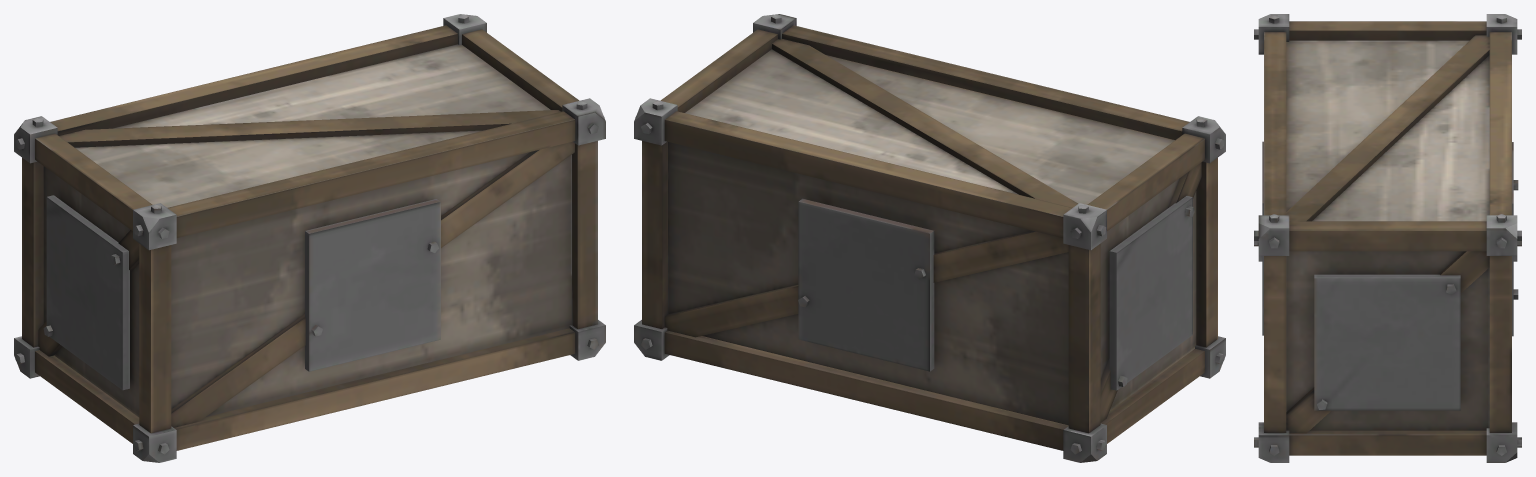
File: BuildingCrate1x1x2.glb
The picture shows the model from 3 angles, left to right: view 1: azimuth 30°, elevation 25°; view 2: azimuth 150°, elevation 25°; view 3: azimuth 270°, elevation 25°; orthographic projection. The views are drawn at different scales.
Visible parts, largest first — view 1: BuildingCrate1x1x2; view 2: BuildingCrate1x1x2; view 3: BuildingCrate1x1x2.
Part boxes in pixels (left/top/right/bottom): BuildingCrate1x1x2: left=14, top=14, right=605, bottom=462; BuildingCrate1x1x2: left=634, top=14, right=1225, bottom=462; BuildingCrate1x1x2: left=1254, top=14, right=1521, bottom=462.
Size of the model in its own units: 1.3 by 0.6766 by 0.6744.
1 material, 1 textured.
